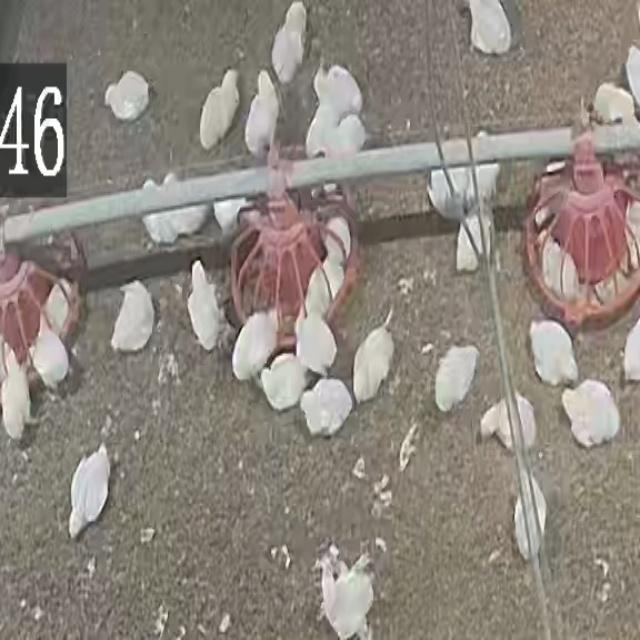chicken: (318, 553, 374, 638), (351, 311, 396, 404), (68, 444, 111, 540), (560, 379, 620, 447), (105, 279, 157, 357), (267, 0, 314, 81), (528, 318, 578, 388), (230, 311, 278, 383), (433, 344, 481, 414), (298, 377, 353, 438), (187, 259, 223, 351), (245, 70, 282, 159), (199, 70, 240, 150), (294, 302, 337, 378), (480, 394, 536, 452), (302, 255, 355, 315), (258, 352, 309, 414), (29, 314, 69, 390), (1, 349, 34, 441), (100, 70, 154, 126), (513, 474, 547, 561), (466, 0, 513, 57), (469, 130, 504, 202), (311, 64, 362, 113), (163, 173, 202, 236), (139, 178, 176, 244), (542, 239, 582, 299), (455, 209, 493, 271), (323, 112, 372, 159), (425, 157, 466, 212), (592, 82, 639, 129), (303, 104, 341, 157), (322, 214, 355, 261), (44, 280, 72, 332), (212, 196, 248, 236), (622, 310, 640, 381), (625, 44, 640, 111)
